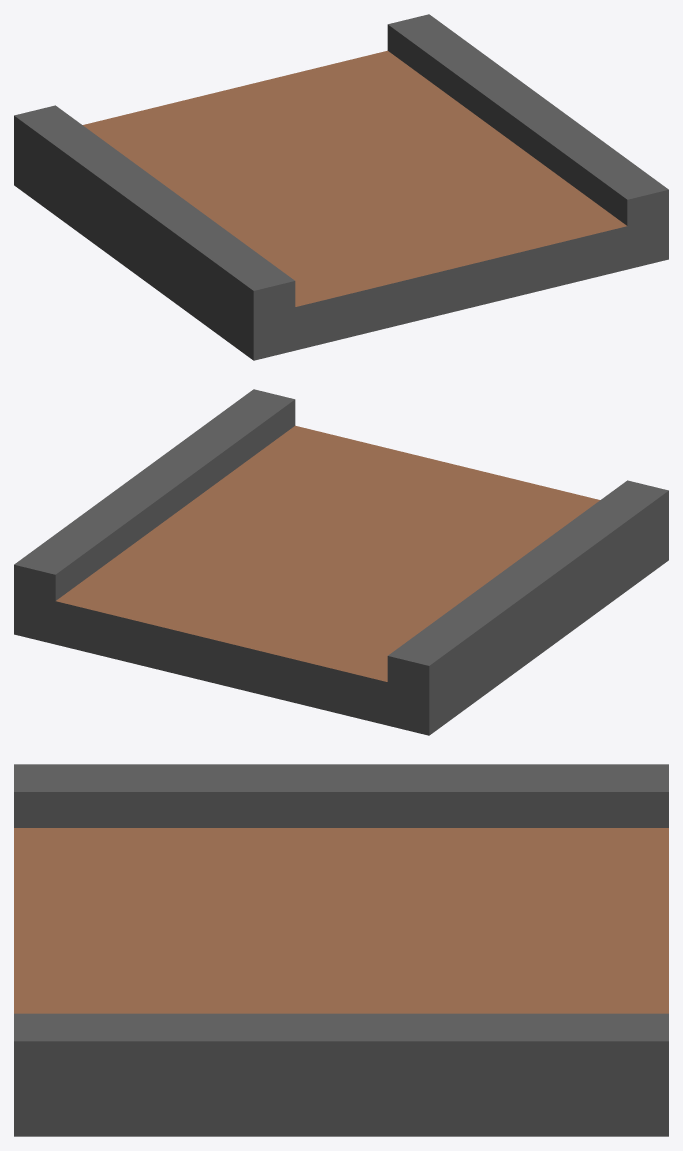
The model's file is road_flat.fbx.
The picture shows the model from 3 angles, top to bottom: view 1: azimuth 30°, elevation 25°; view 2: azimuth 150°, elevation 25°; view 3: azimuth 270°, elevation 25°; orthographic projection. The views are drawn at different scales.
Visible parts, largest first — view 1: Cube.003; view 2: Cube.003; view 3: Cube.003.
Boxes of the visible parts, box(x1,y1,x2,y2) form: Cube.003: box(14, 14, 668, 360); Cube.003: box(14, 389, 668, 735); Cube.003: box(14, 764, 668, 1136).
Bounding box in the file's own units: 100 × 16.06 × 100.
